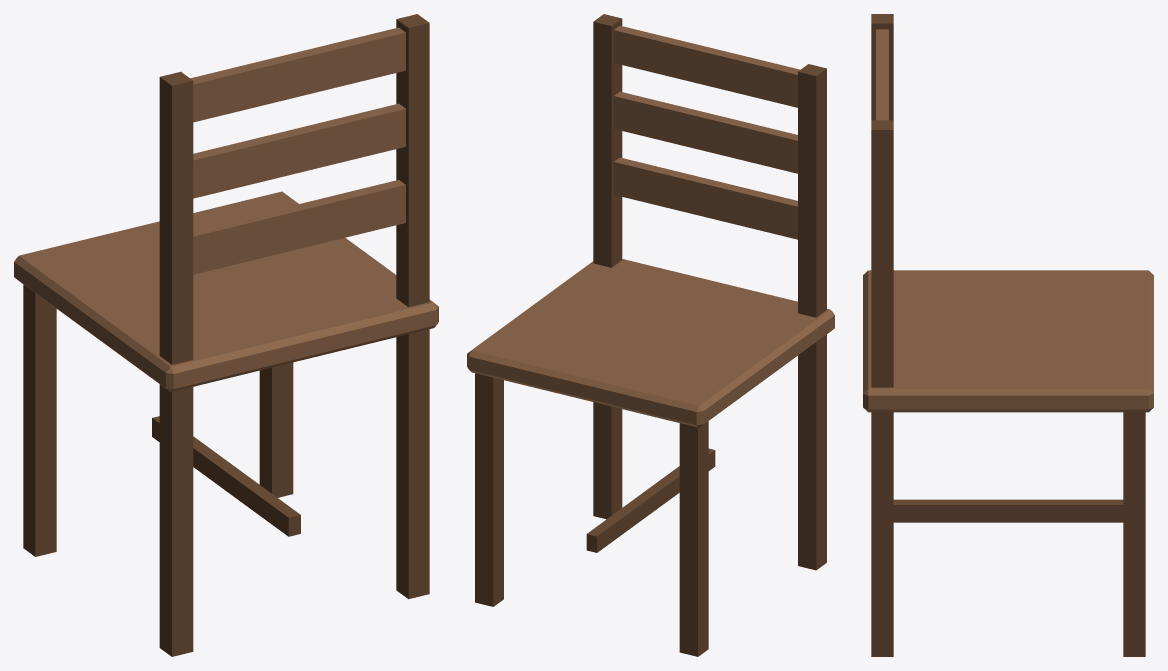
Rendered from kitchen_chair_s.glb.
3 views of the same model, side by side, from view 1: azimuth 30°, elevation 25°; view 2: azimuth 150°, elevation 25°; view 3: azimuth 270°, elevation 25° (orthographic). The views are drawn at different scales.
Parts seen in each view (by area): view 1: kitchen_chair_s; view 2: kitchen_chair_s; view 3: kitchen_chair_s.
Boxes of the visible parts, x1,y1,x2,y2 form: kitchen_chair_s: (14,14,438,656); kitchen_chair_s: (467,14,834,656); kitchen_chair_s: (863,14,1153,656).
Bounding box in the file's own units: 0.45 × 0.9 × 0.45.
